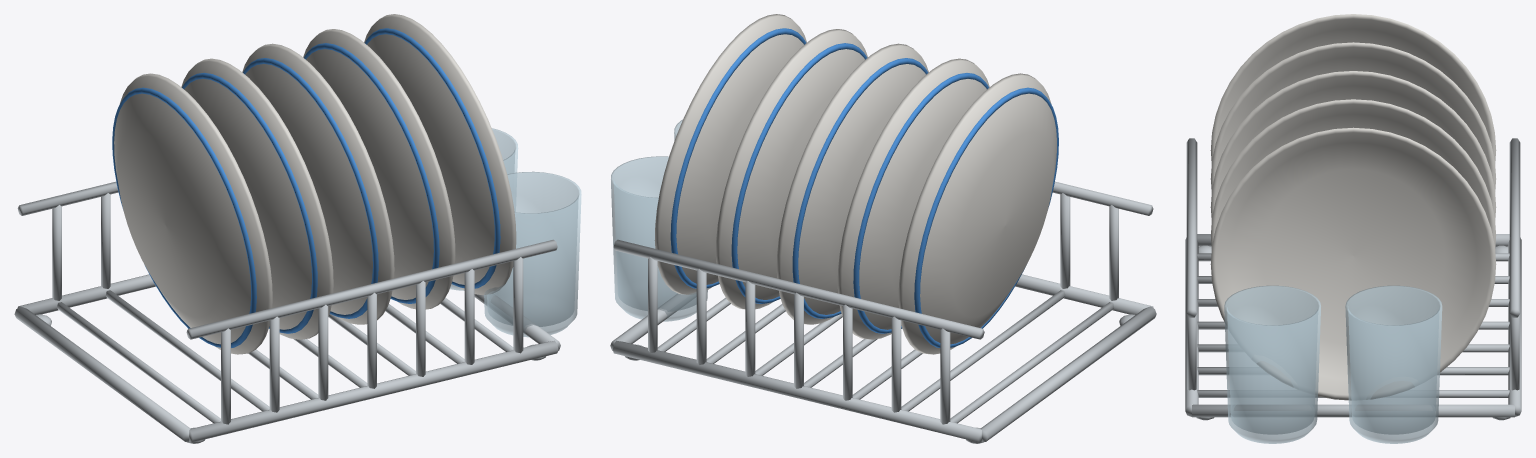
File: props-dishrack.glb
3 renders of one model, left to right at view 1: azimuth 30°, elevation 25°; view 2: azimuth 150°, elevation 25°; view 3: azimuth 270°, elevation 25°, orthographic. The views are drawn at different scales.
Visible parts, largest first — view 1: DishRack__Plates, DishRack__Wire, DishRack__Glasses, DishRack__PlateRims; view 2: DishRack__Plates, DishRack__Wire, DishRack__PlateRims, DishRack__Glasses; view 3: DishRack__Plates, DishRack__Glasses, DishRack__Wire.
Boxes of the visible parts, bbox=[...] form: DishRack__Plates: bbox=[114, 14, 516, 354]; DishRack__Wire: bbox=[14, 181, 560, 443]; DishRack__Glasses: bbox=[450, 128, 581, 337]; DishRack__PlateRims: bbox=[112, 28, 500, 347]; DishRack__Plates: bbox=[654, 14, 1056, 354]; DishRack__Wire: bbox=[610, 181, 1156, 443]; DishRack__PlateRims: bbox=[670, 28, 1058, 347]; DishRack__Glasses: bbox=[611, 119, 707, 321]; DishRack__Plates: bbox=[1210, 14, 1496, 400]; DishRack__Glasses: bbox=[1224, 285, 1442, 443]; DishRack__Wire: bbox=[1185, 138, 1521, 420].
Bounding box in the file's own units: 35.6 × 22.44 × 25.
